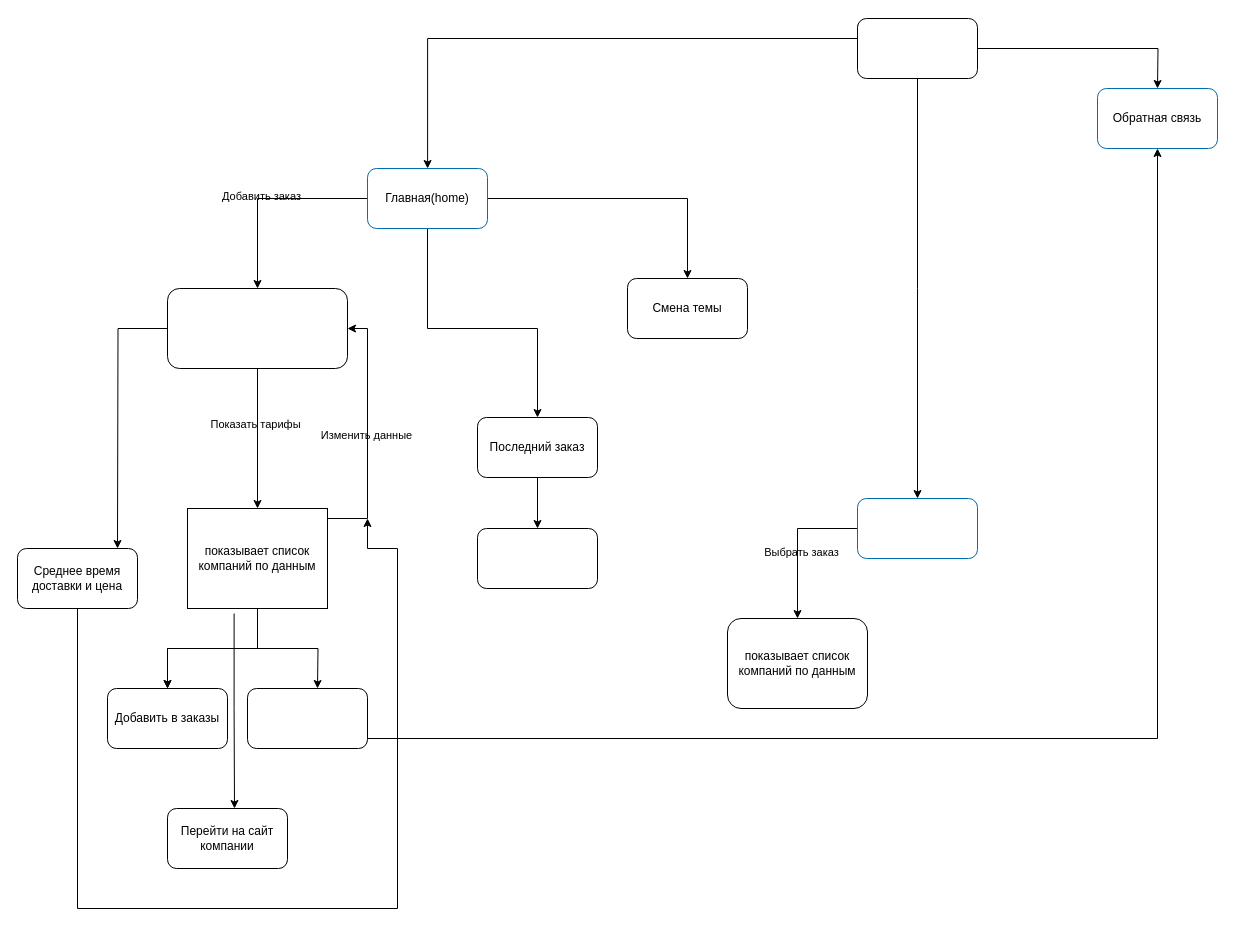
This 1235x934 diagram has some shape labels left out. Here are the shapes that lost their labels. From the top down, the box of each, then its label:
(856, 18, 978, 78): Пользователь
(166, 288, 348, 368): Выбор: 1 города в который отправить 2 вес посылки (ввод)
(856, 498, 978, 558): История заказов
(476, 528, 598, 588): Все заказы
(246, 688, 368, 748): Задать вопрос
